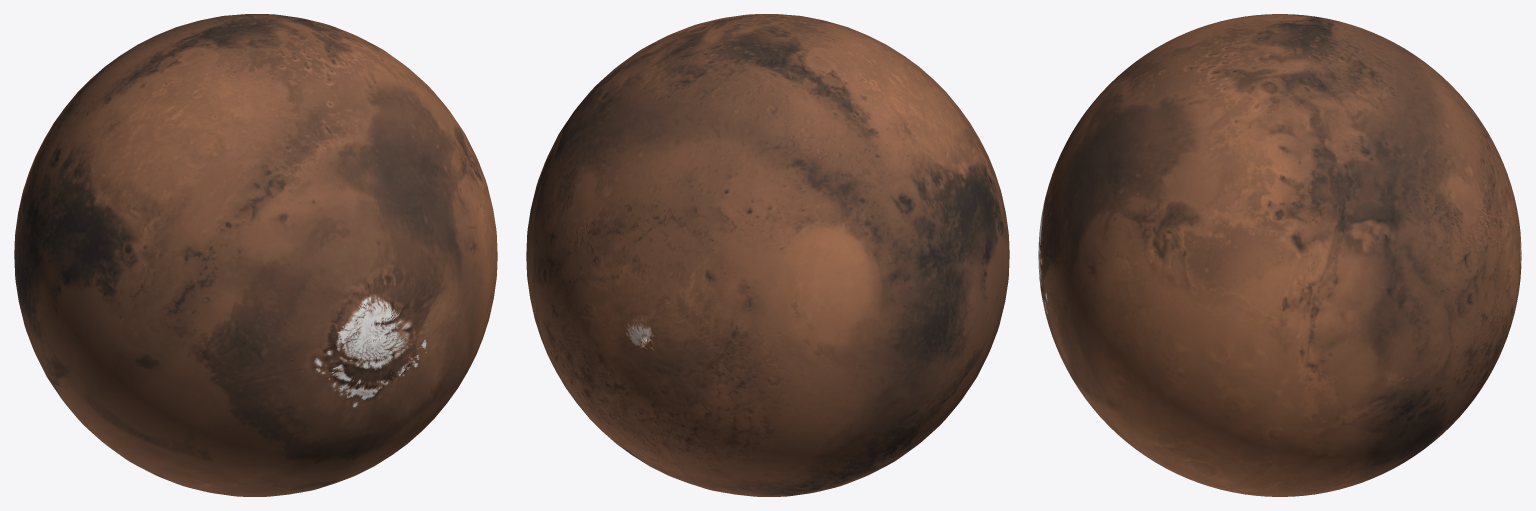
Rendered from Mars.obj.
3 views of the same model, side by side, from view 1: azimuth 30°, elevation 25°; view 2: azimuth 150°, elevation 25°; view 3: azimuth 270°, elevation 25° (orthographic).
Visible parts, largest first — view 1: Plane; view 2: Plane; view 3: Plane.
Boxes of the visible parts, box(x1,y1,x2,y2) form: Plane: box(14, 14, 497, 496); Plane: box(526, 14, 1009, 496); Plane: box(1038, 14, 1521, 496).
Size of the model in its own units: 5.21 by 5.21 by 5.21.
Materials: 1 (1 with a texture image).
